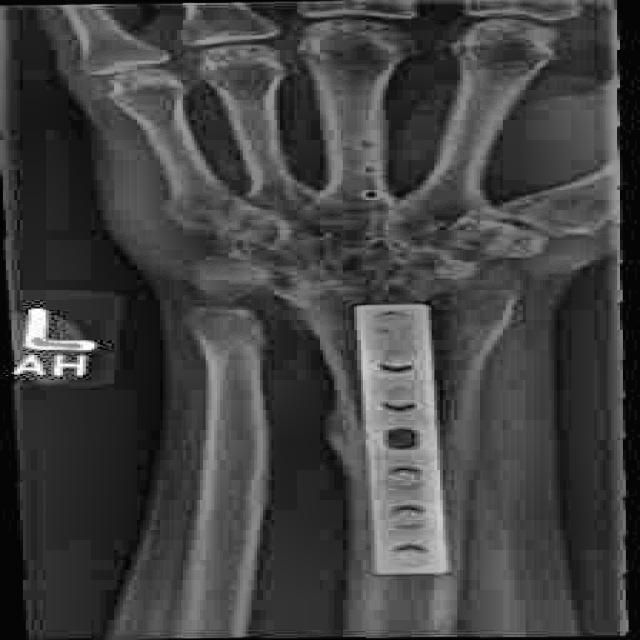wrist positive: (428, 191, 605, 255), (169, 291, 303, 370), (284, 246, 436, 303)
